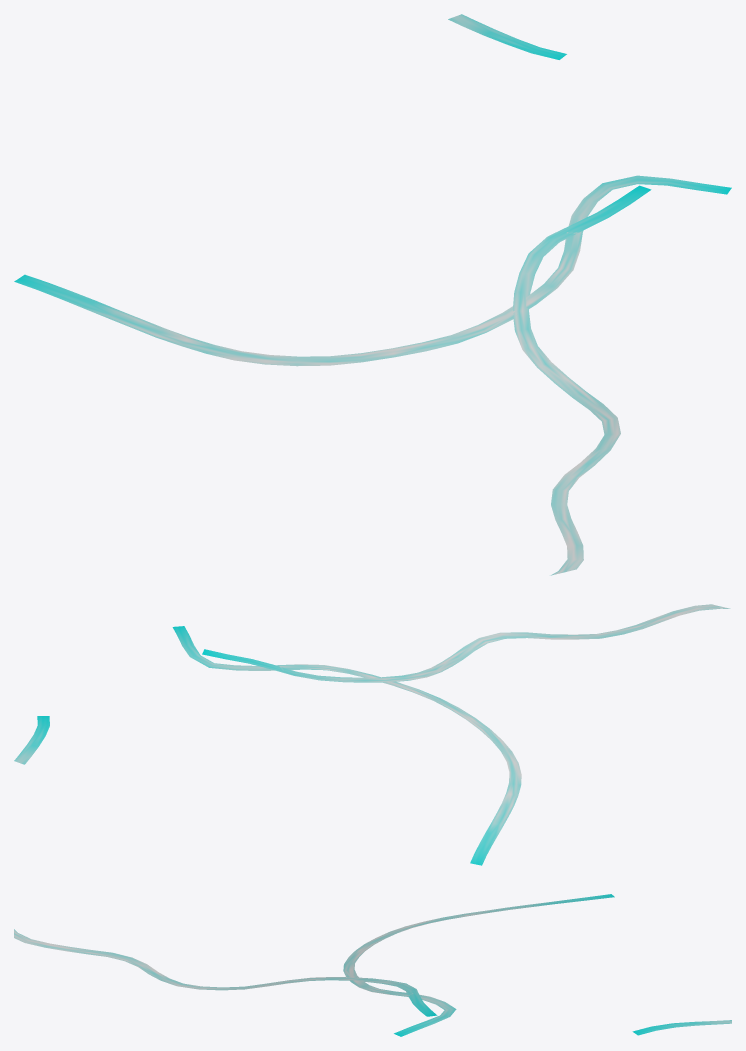
3 views of the same model, one above another, from view 1: azimuth 30°, elevation 25°; view 2: azimuth 150°, elevation 25°; view 3: azimuth 270°, elevation 25° (orthographic). The views are drawn at different scales.
Parts seen in each view (by area): view 1: SpaceCenter_Long3_GenerateRoad_Sand_TireTracks_Width_Mesh_x9; view 2: SpaceCenter_Long3_GenerateRoad_Sand_TireTracks_Width_Mesh_x9; view 3: SpaceCenter_Long3_GenerateRoad_Sand_TireTracks_Width_Mesh_x9.
Part boxes in pixels (left/top/right/bottom): SpaceCenter_Long3_GenerateRoad_Sand_TireTracks_Width_Mesh_x9: left=14, top=14, right=731, bottom=575; SpaceCenter_Long3_GenerateRoad_Sand_TireTracks_Width_Mesh_x9: left=14, top=604, right=730, bottom=865; SpaceCenter_Long3_GenerateRoad_Sand_TireTracks_Width_Mesh_x9: left=14, top=894, right=731, bottom=1036.
Bounding box in the file's own units: 2304 × 1460 × 185.
